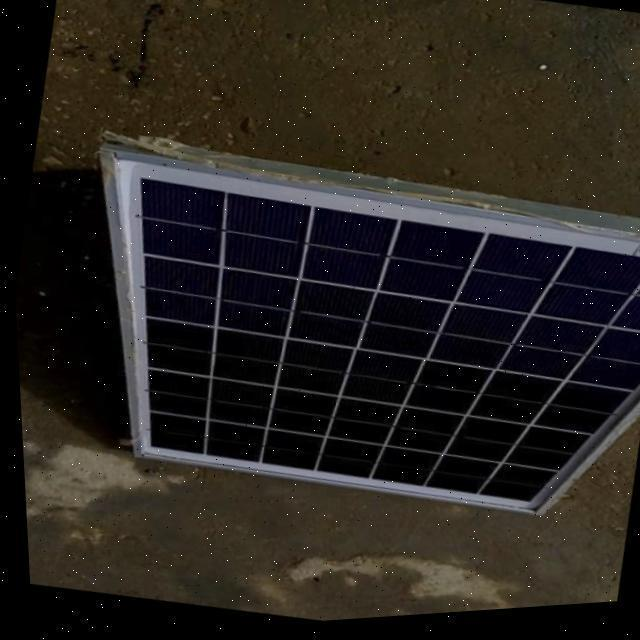Normal Solar Panel: (38, 101, 640, 564)
